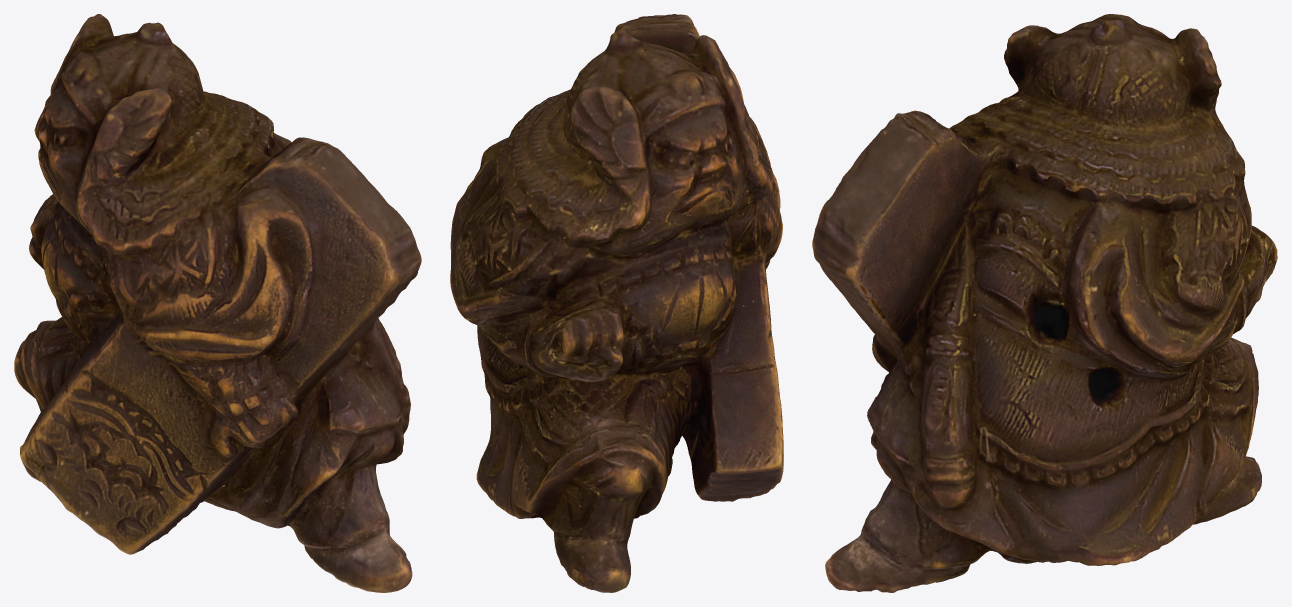
Rendered from netsuke.glb.
3 renders of one model, left to right at view 1: azimuth 30°, elevation 25°; view 2: azimuth 150°, elevation 25°; view 3: azimuth 270°, elevation 25°, orthographic. The views are drawn at different scales.
Visible parts, largest first — view 1: Object_2, Object_3; view 2: Object_2, Object_3; view 3: Object_2, Object_3.
Boxes of the visible parts, x1=… form: Object_2: x1=14, y1=14, x2=421, y2=592; Object_3: x1=16, y1=15, x2=420, y2=567; Object_2: x1=450, y1=14, x2=783, y2=592; Object_3: x1=476, y1=14, x2=763, y2=585; Object_2: x1=812, y1=14, x2=1277, y2=592; Object_3: x1=813, y1=20, x2=1274, y2=592.
Size of the model in its own units: 0.5159 by 0.7713 by 0.6337.
Materials: 1 (1 with a texture image).
